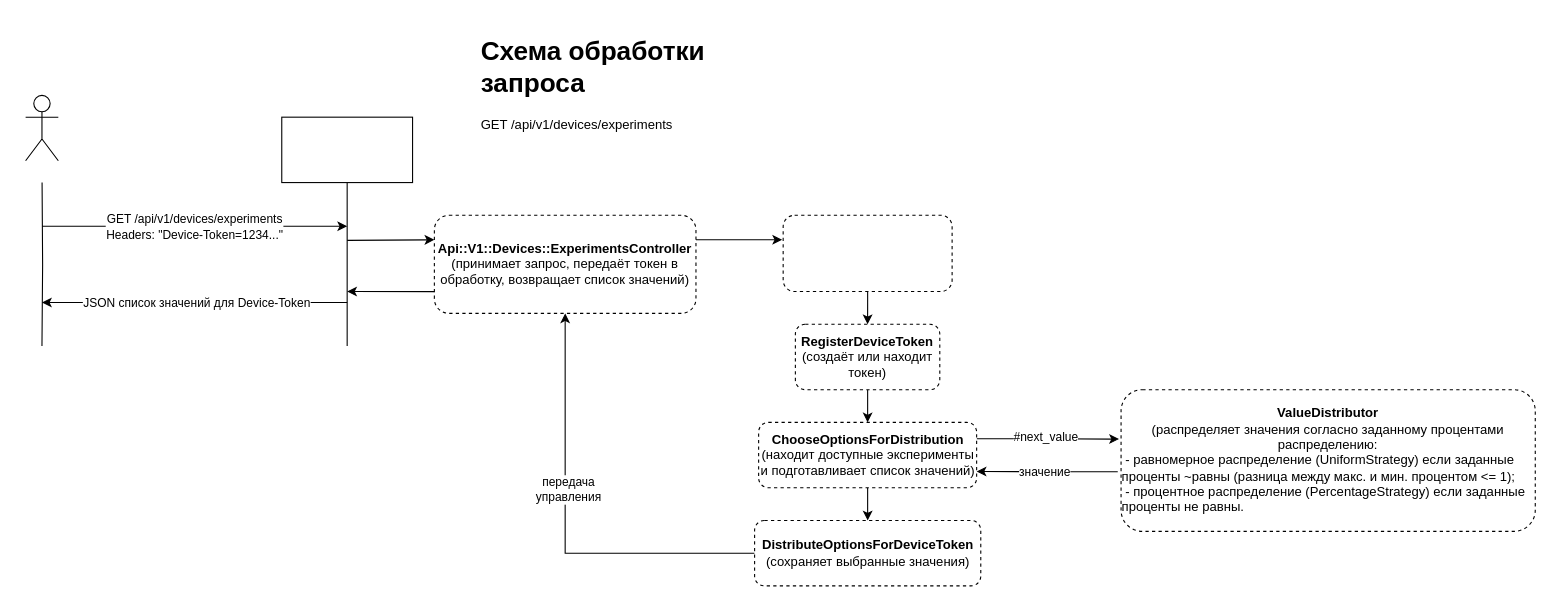
Some shapes in this 1554 by 605 pixel diagram are drawn without their labels. The centre of each missing label's shape, as x and y in pixels:
AddDeviceToExperiments (запускает последовательность из интеракторов): pixel 867 253
Клиент: pixel 41 127
Приложение: pixel 347 149
